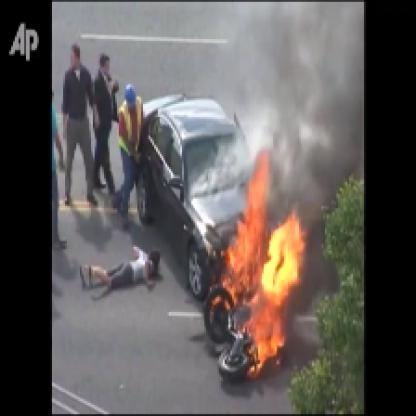Fire: (195, 143, 306, 381)
Smoke: (245, 2, 362, 174)
